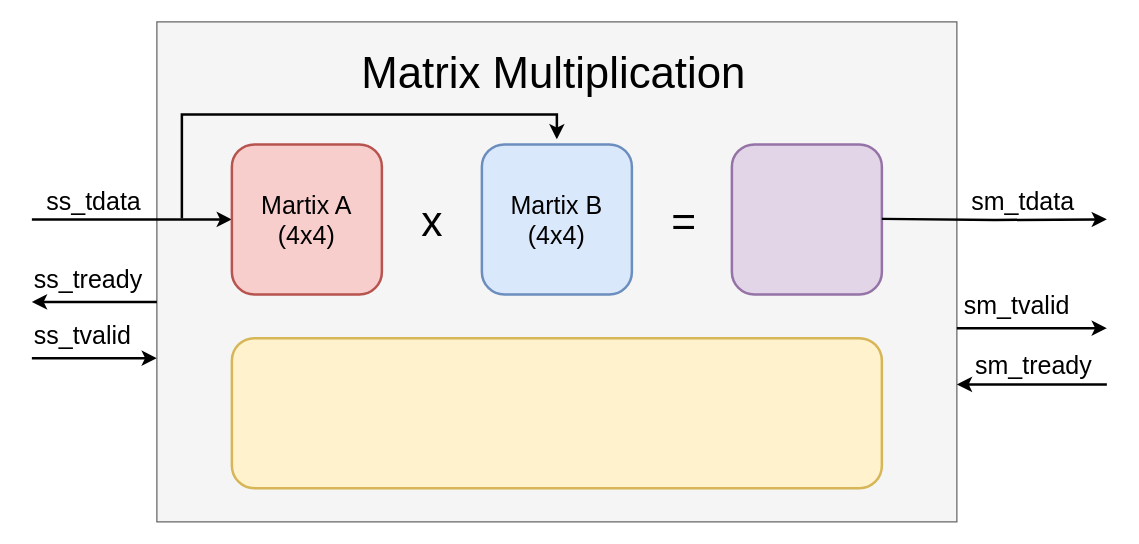
This 1139x544 diagram has some shape labels left out. The shapes that lost their labels are listed below. From the top down, each one's box as (x1, y1, x2, y2) in pixels, then its label:
(730, 142, 882, 295): Martix C (4x4)
(230, 336, 882, 489): FSM
